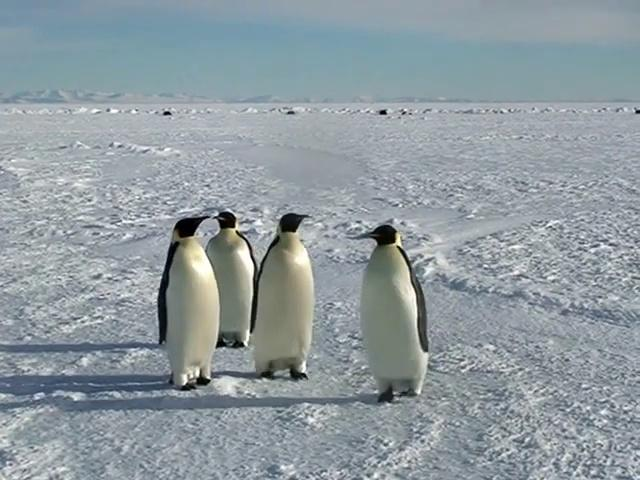animal: (361, 225, 428, 401)
